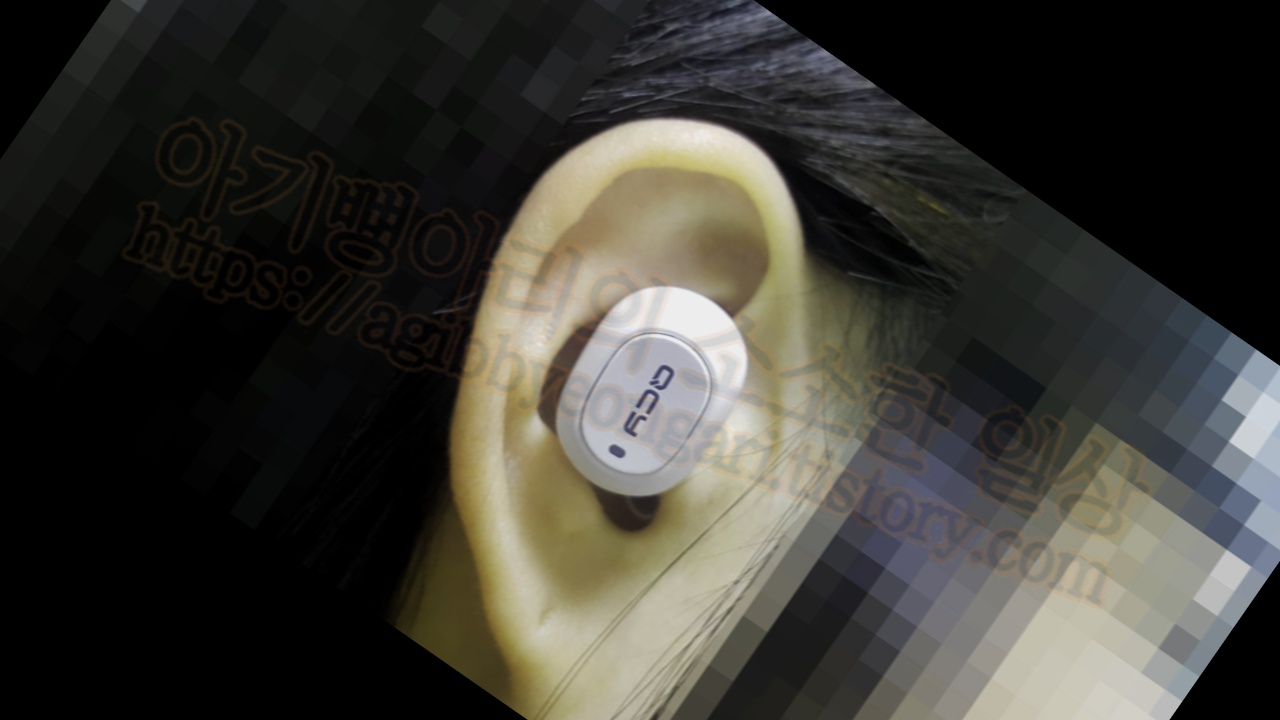earphone: (281, 50, 898, 720)
